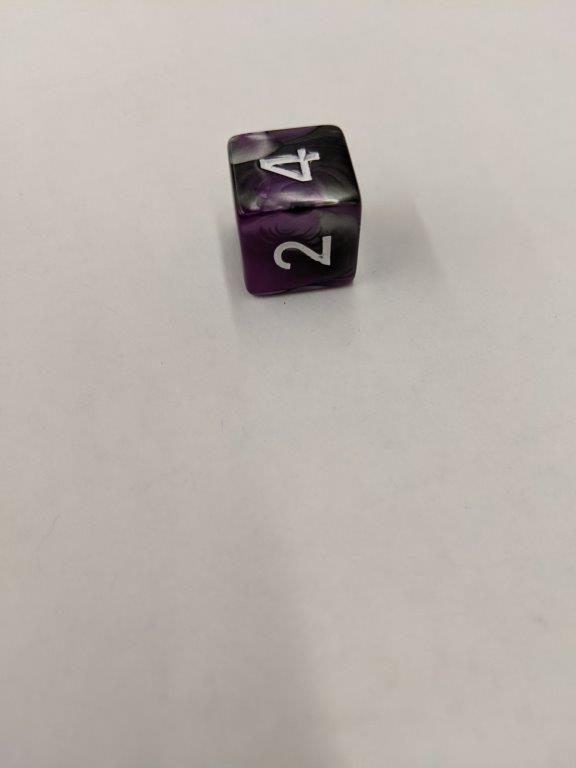d6-4: (224, 123, 362, 297)
